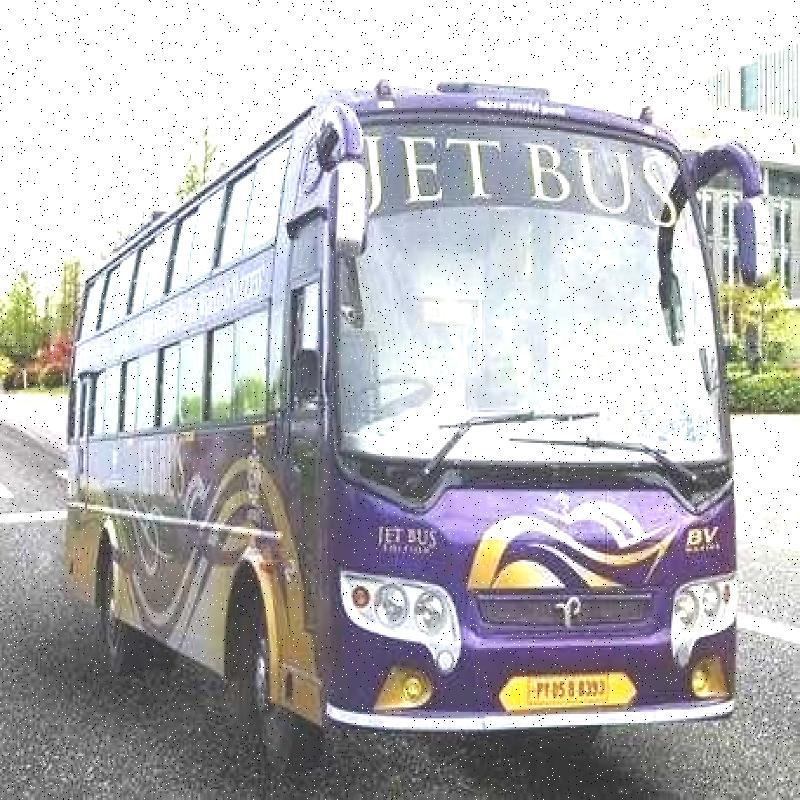bus: (53, 43, 762, 790)
